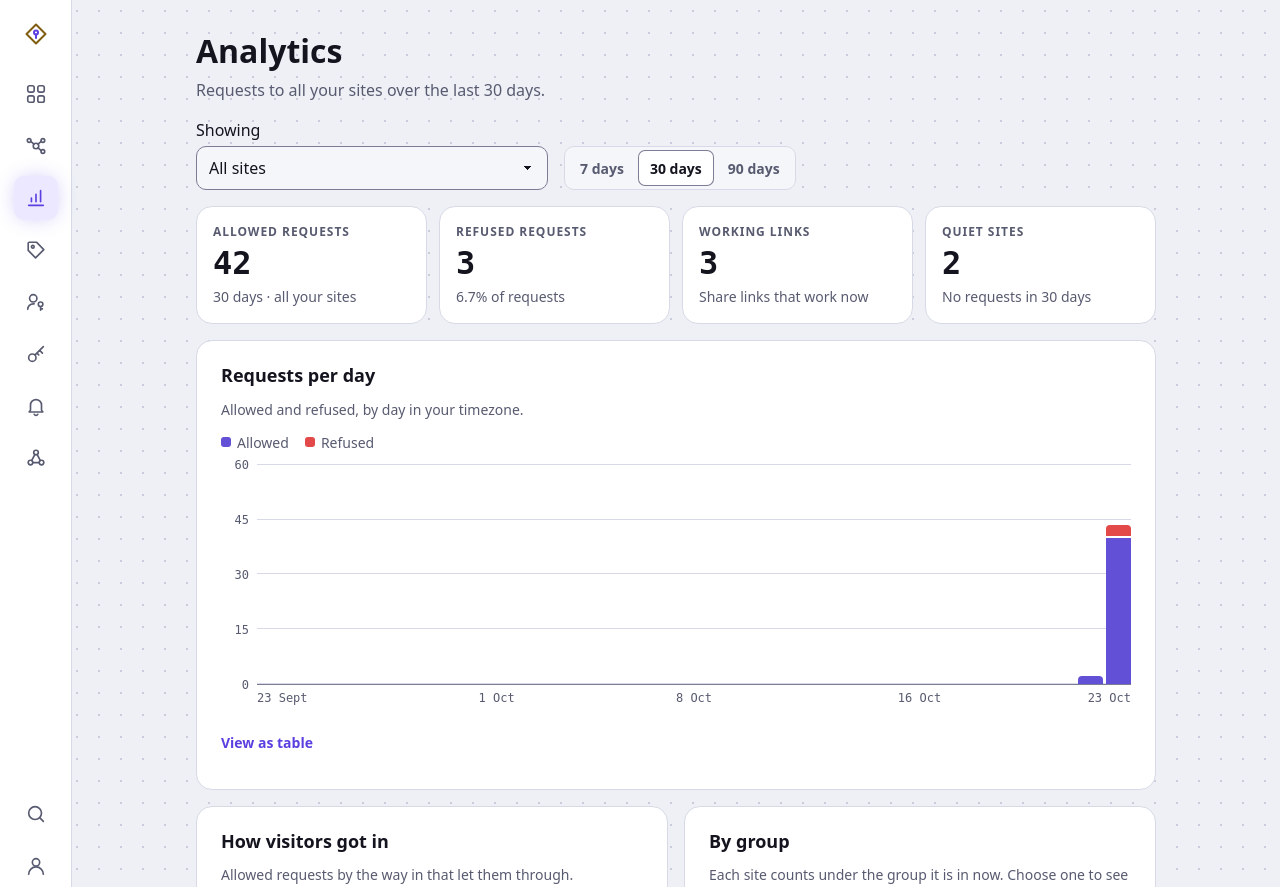
Scenario: range › switches the range and reads the report again
This screenshot has width=1280, height=887.
Check: the heading "Analytics" is shown, box [196, 29, 342, 72]
Check: the text "Requests to all your sites over the last 30 days." is shown, box [196, 79, 545, 101]
Step 1. Click the radio button labelled "90 days" → [754, 168], box [728, 159, 780, 178]
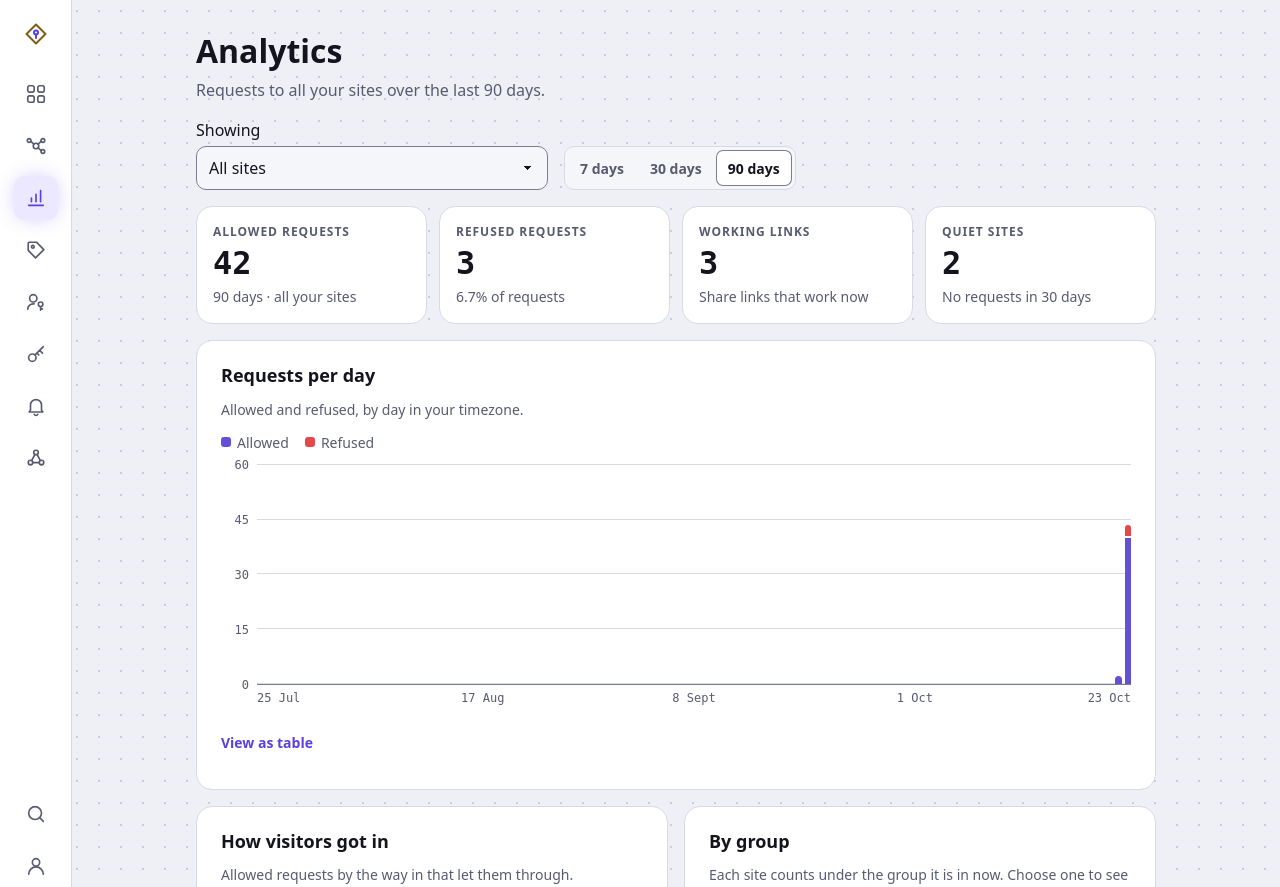
Check: the text "Requests to all your sites over the last 90 days." is shown, box [196, 79, 545, 101]
Step 2. Click the radio button labelled "30 days" → [676, 168], box [650, 159, 702, 178]
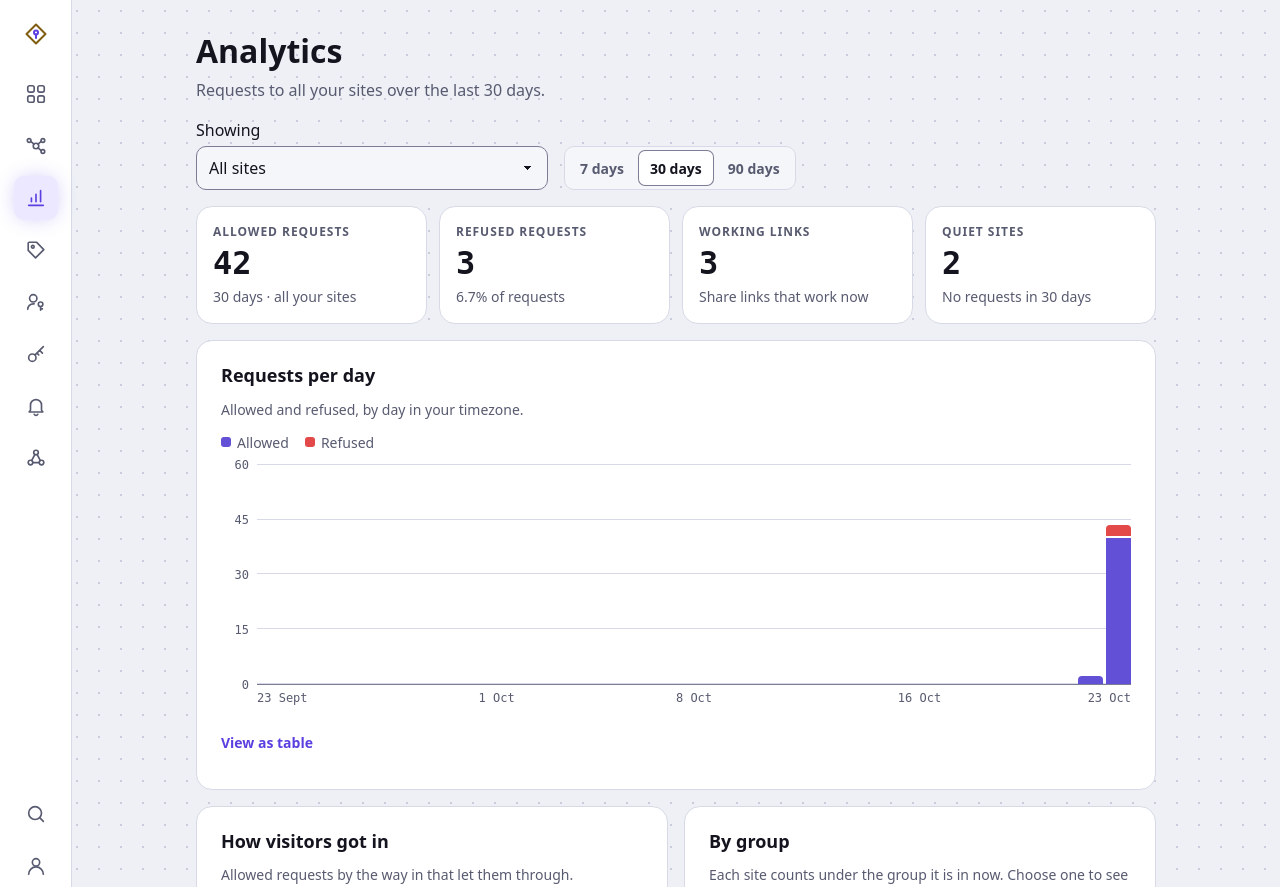
Check: the text "Requests to all your sites over the last 30 days." is shown, box [196, 79, 545, 101]
